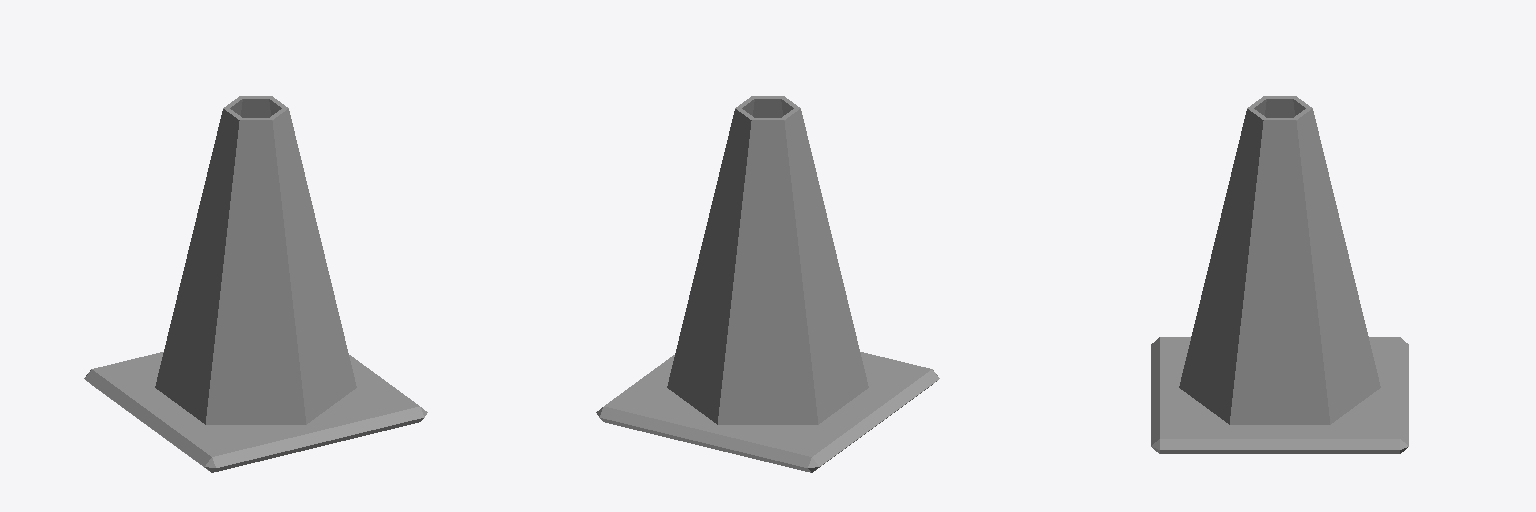
Rendered from TrafficCone.obj.
3 renders of one model, left to right at view 1: azimuth 30°, elevation 25°; view 2: azimuth 150°, elevation 25°; view 3: azimuth 270°, elevation 25°, orthographic.
Visible parts, largest first — view 1: Cone_Cone.001; view 2: Cone_Cone.001; view 3: Cone_Cone.001.
Part boxes in pixels (x1,y1,x2,y2): Cone_Cone.001: (84,96,427,472); Cone_Cone.001: (596,96,939,472); Cone_Cone.001: (1151,96,1408,453).
Size of the model in its own units: 0.9996 by 1.26 by 0.9996.